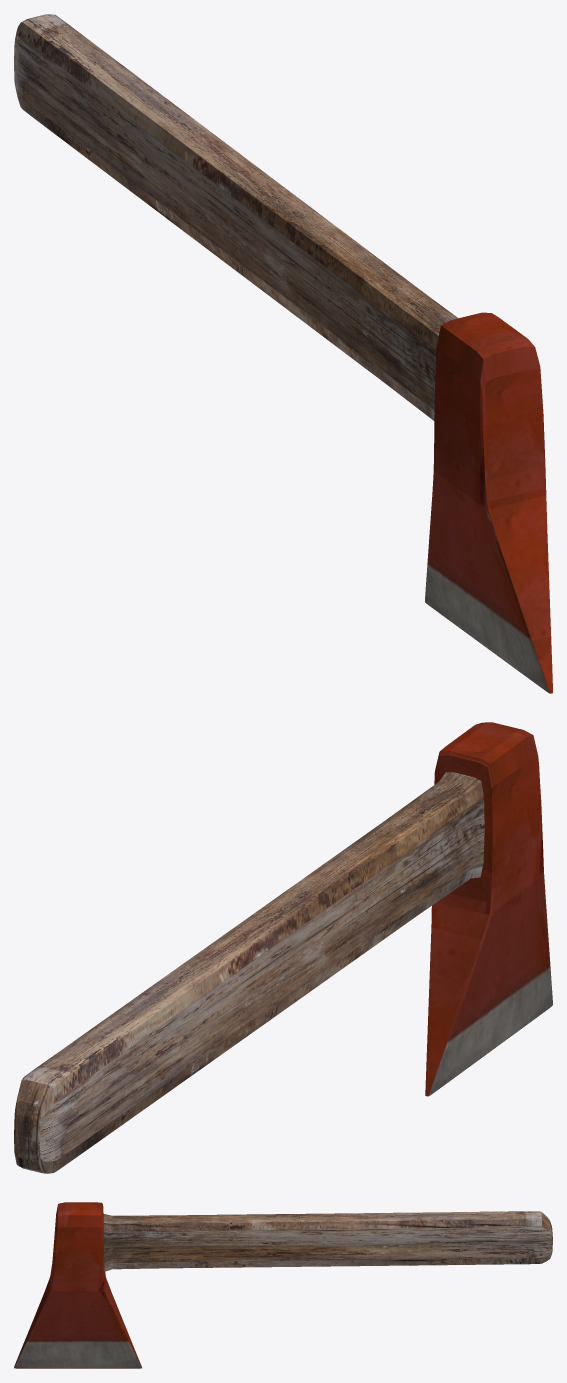
The model's file is axe.fbx.
The picture shows the model from 3 angles, top to bottom: view 1: azimuth 30°, elevation 25°; view 2: azimuth 150°, elevation 25°; view 3: azimuth 270°, elevation 25°; orthographic projection. The views are drawn at different scales.
Visible parts, largest first — view 1: Cube; view 2: Cube; view 3: Cube.
Boxes of the visible parts, x1,y1,x2,y2 form: Cube: (14,14,552,693); Cube: (14,722,552,1173); Cube: (14,1202,552,1368).
Bounding box in the file's own units: 42.02 × 199 × 604.
Materials: 1 (1 with a texture image).
